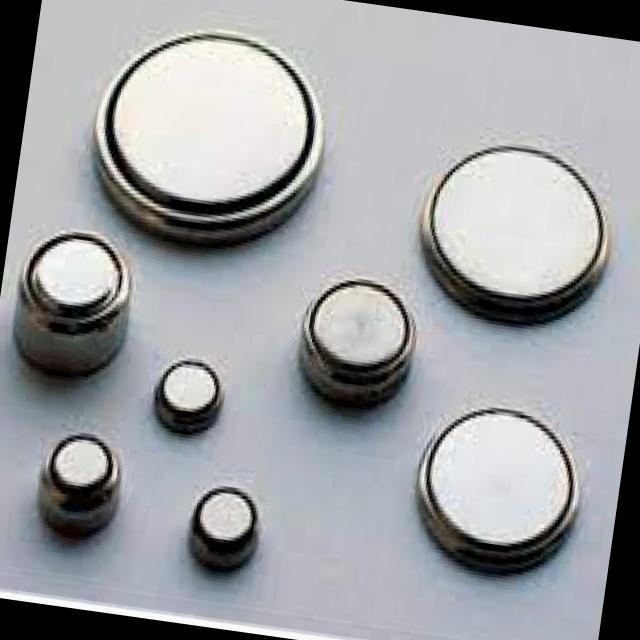COIN: (74, 0, 347, 269), (403, 108, 630, 350), (402, 378, 600, 598), (277, 258, 435, 444), (0, 222, 152, 398), (20, 427, 134, 560), (177, 467, 276, 584), (144, 353, 238, 452)
